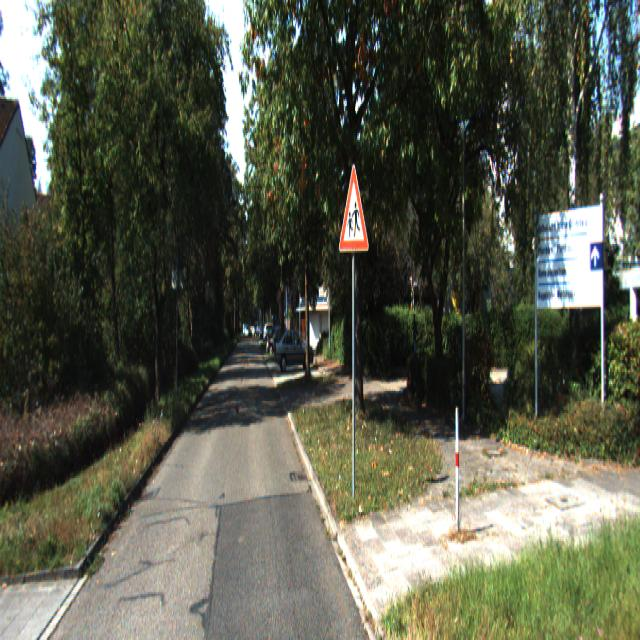Car: (272, 326, 312, 374)
DontCare: (238, 313, 270, 345)
